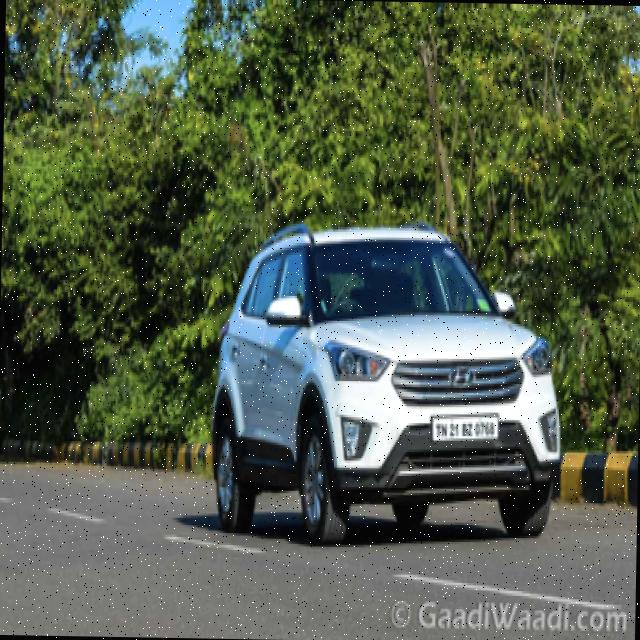Autre: (426, 412, 498, 442)
